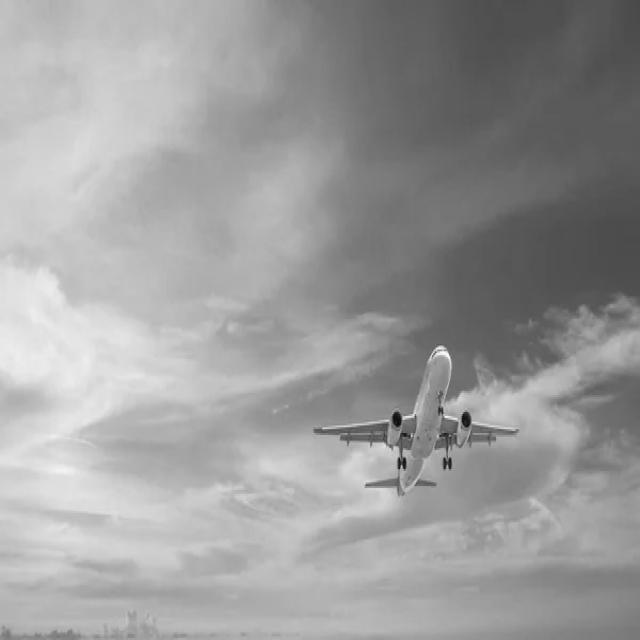Aircraft: (308, 341, 522, 497)
